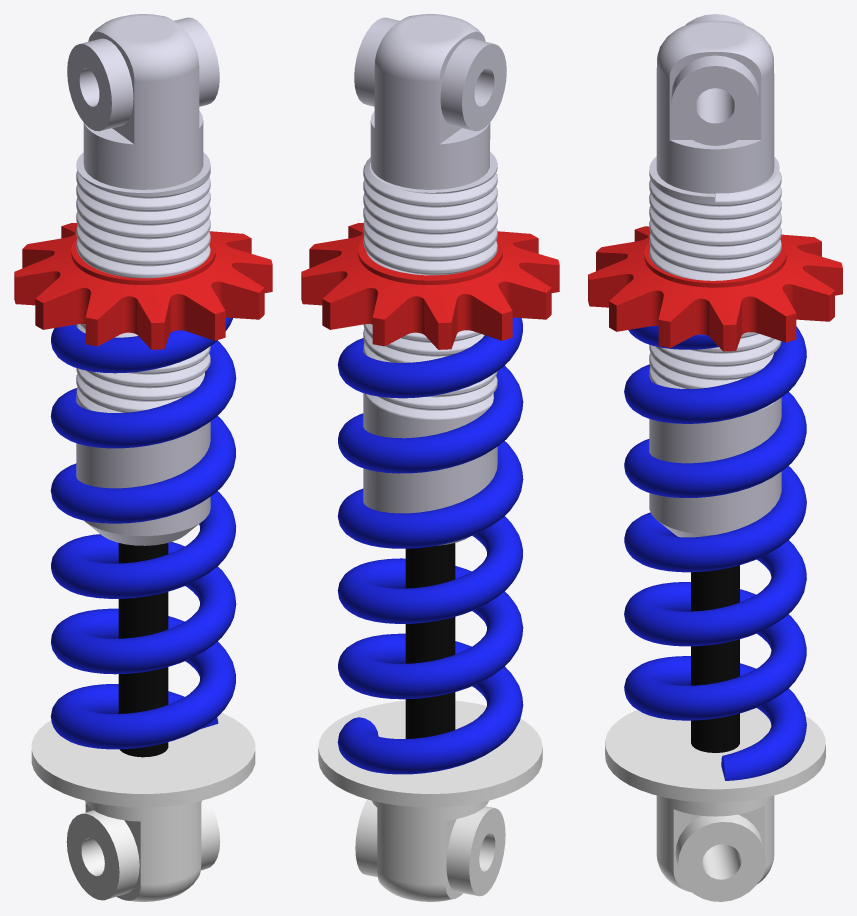
File: Suspension_embedded.gltf
3 views of the same model, side by side, from view 1: azimuth 30°, elevation 25°; view 2: azimuth 150°, elevation 25°; view 3: azimuth 270°, elevation 25° (orthographic).
Visible parts, largest first — view 1: Solid1070, Solid1069, Solid1037_1, Solid1068, Solid1037; view 2: Solid1070, Solid1069, Solid1037_1, Solid1068, Solid1037; view 3: Solid1070, Solid1069, Solid1037_1, Solid1068, Solid1037.
Boxes of the visible parts, x1,y1,x2,y2 form: Solid1070: (50,317,236,749); Solid1069: (67,14,219,545); Solid1037_1: (31,713,255,901); Solid1068: (14,223,272,349); Solid1037: (118,543,168,757); Solid1070: (337,317,523,774); Solid1069: (354,14,506,545); Solid1037_1: (318,700,542,901); Solid1068: (301,223,559,349); Solid1037: (405,543,455,738); Solid1070: (624,326,806,780); Solid1069: (649,14,781,537); Solid1037_1: (605,708,825,901); Solid1068: (588,226,842,351); Solid1037: (691,565,739,752).
Size of the model in its own units: 0.0299 by 0.1093 by 0.0299.
